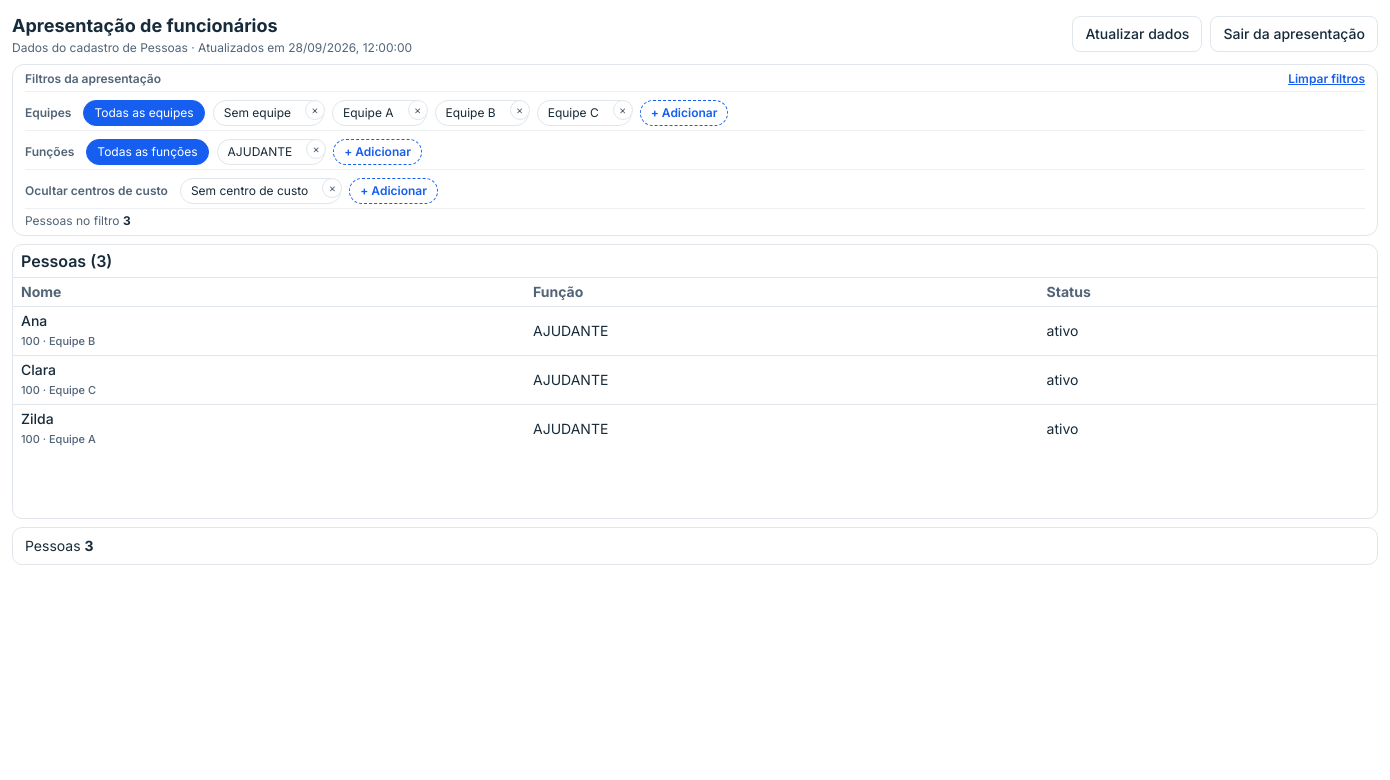
Test: tela de reunião › shows selected teams together in one alphabetical list without comparison panels
Click the button with aria-label "Selecionar equipe Equipe A" at (369, 113), box [333,101,406,125]
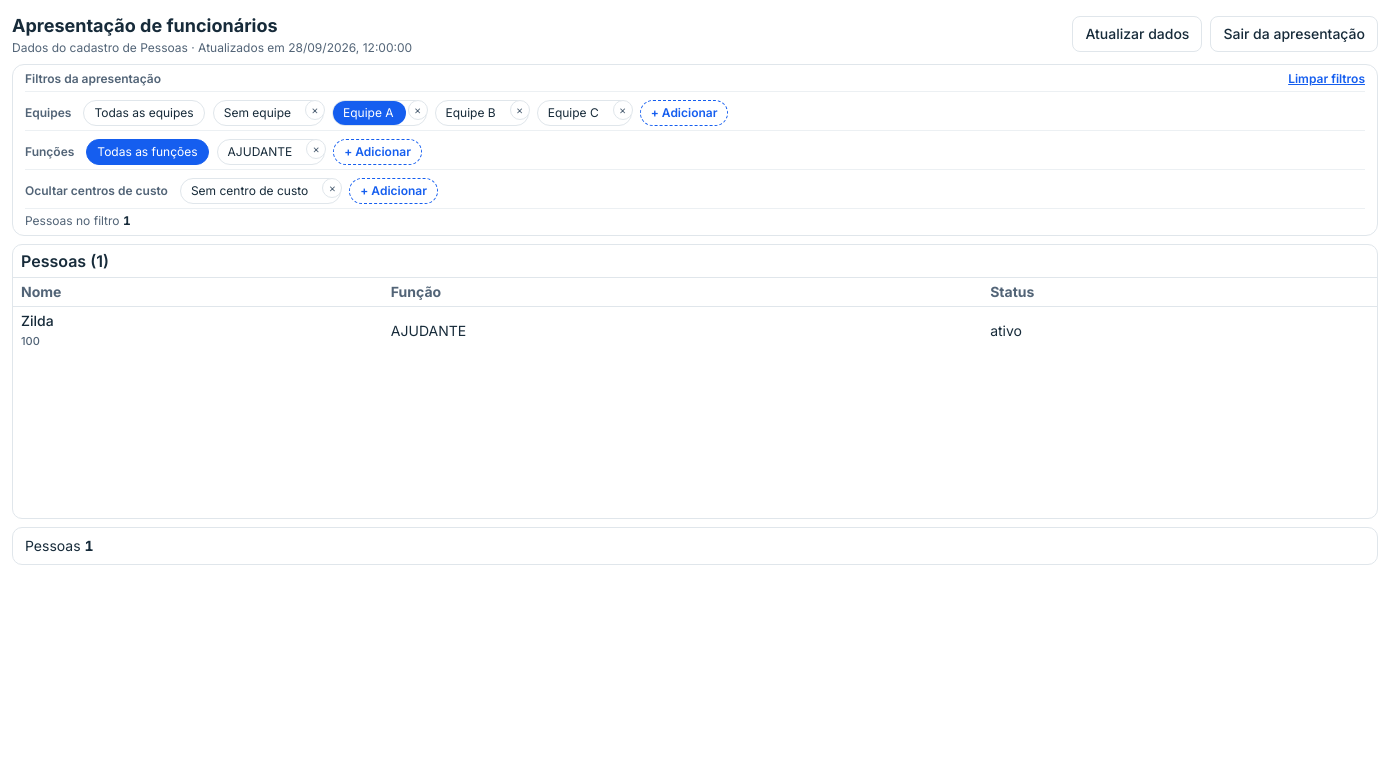
Click the button with aria-label "Selecionar equipe Equipe B" at (472, 113), box [436,101,508,125]
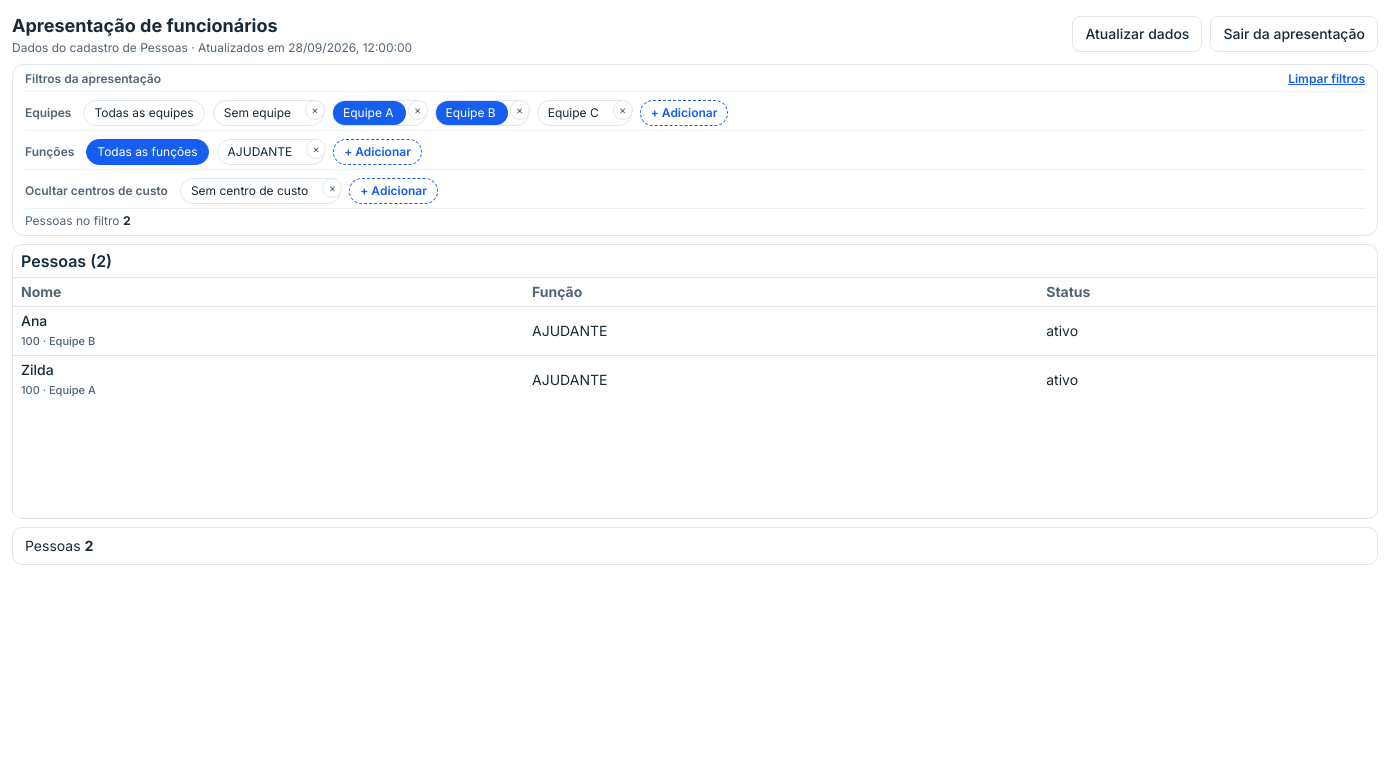
Result: the button with aria-label "Retirar equipe Equipe A" is shown at [333,101,406,125]
Result: the button with aria-label "Retirar equipe Equipe B" is shown at [436,101,508,125]
Result: the row "Ana 100 · Equipe B AJUDANTE ativo" is shown at [13,306,1377,356]
